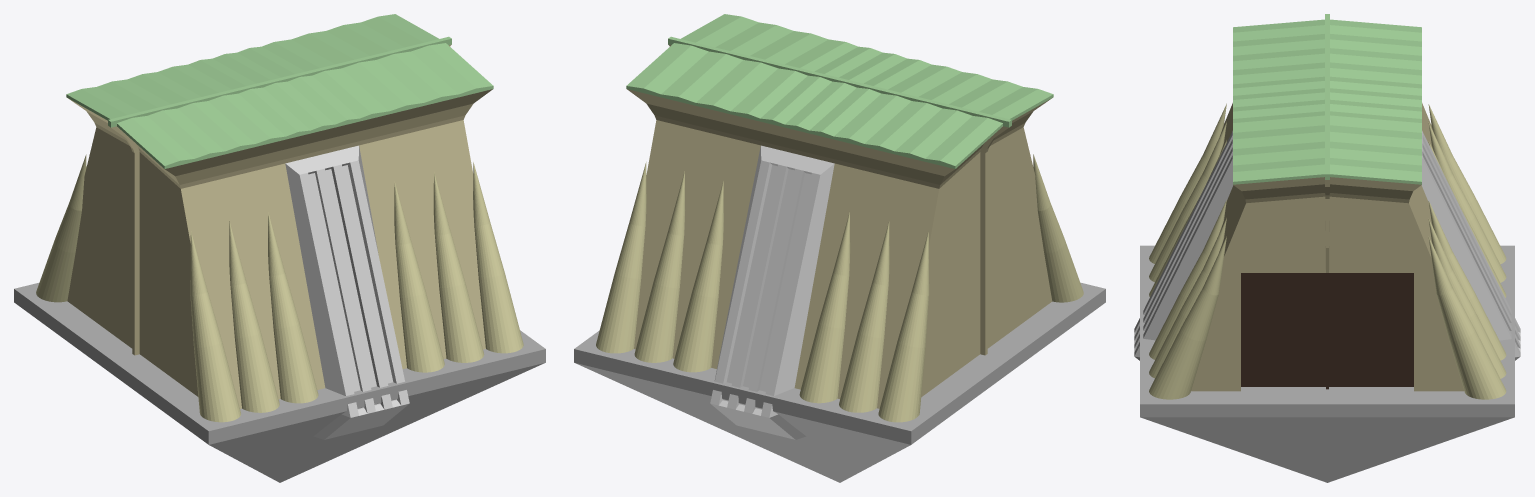
The model's file is Buuilding Storage Yard T3.fbx.
The picture shows the model from 3 angles, left to right: view 1: azimuth 30°, elevation 25°; view 2: azimuth 150°, elevation 25°; view 3: azimuth 270°, elevation 25°; orthographic projection. The views are drawn at different scales.
Visible parts, largest first — view 1: Cube; view 2: Cube; view 3: Cube.
Boxes of the visible parts, <box> form: Cube: <box>14,14,545,482</box>; Cube: <box>574,14,1105,482</box>; Cube: <box>1134,14,1520,482</box>.
Bounding box in the file's own units: 1617 × 1829 × 1647.
